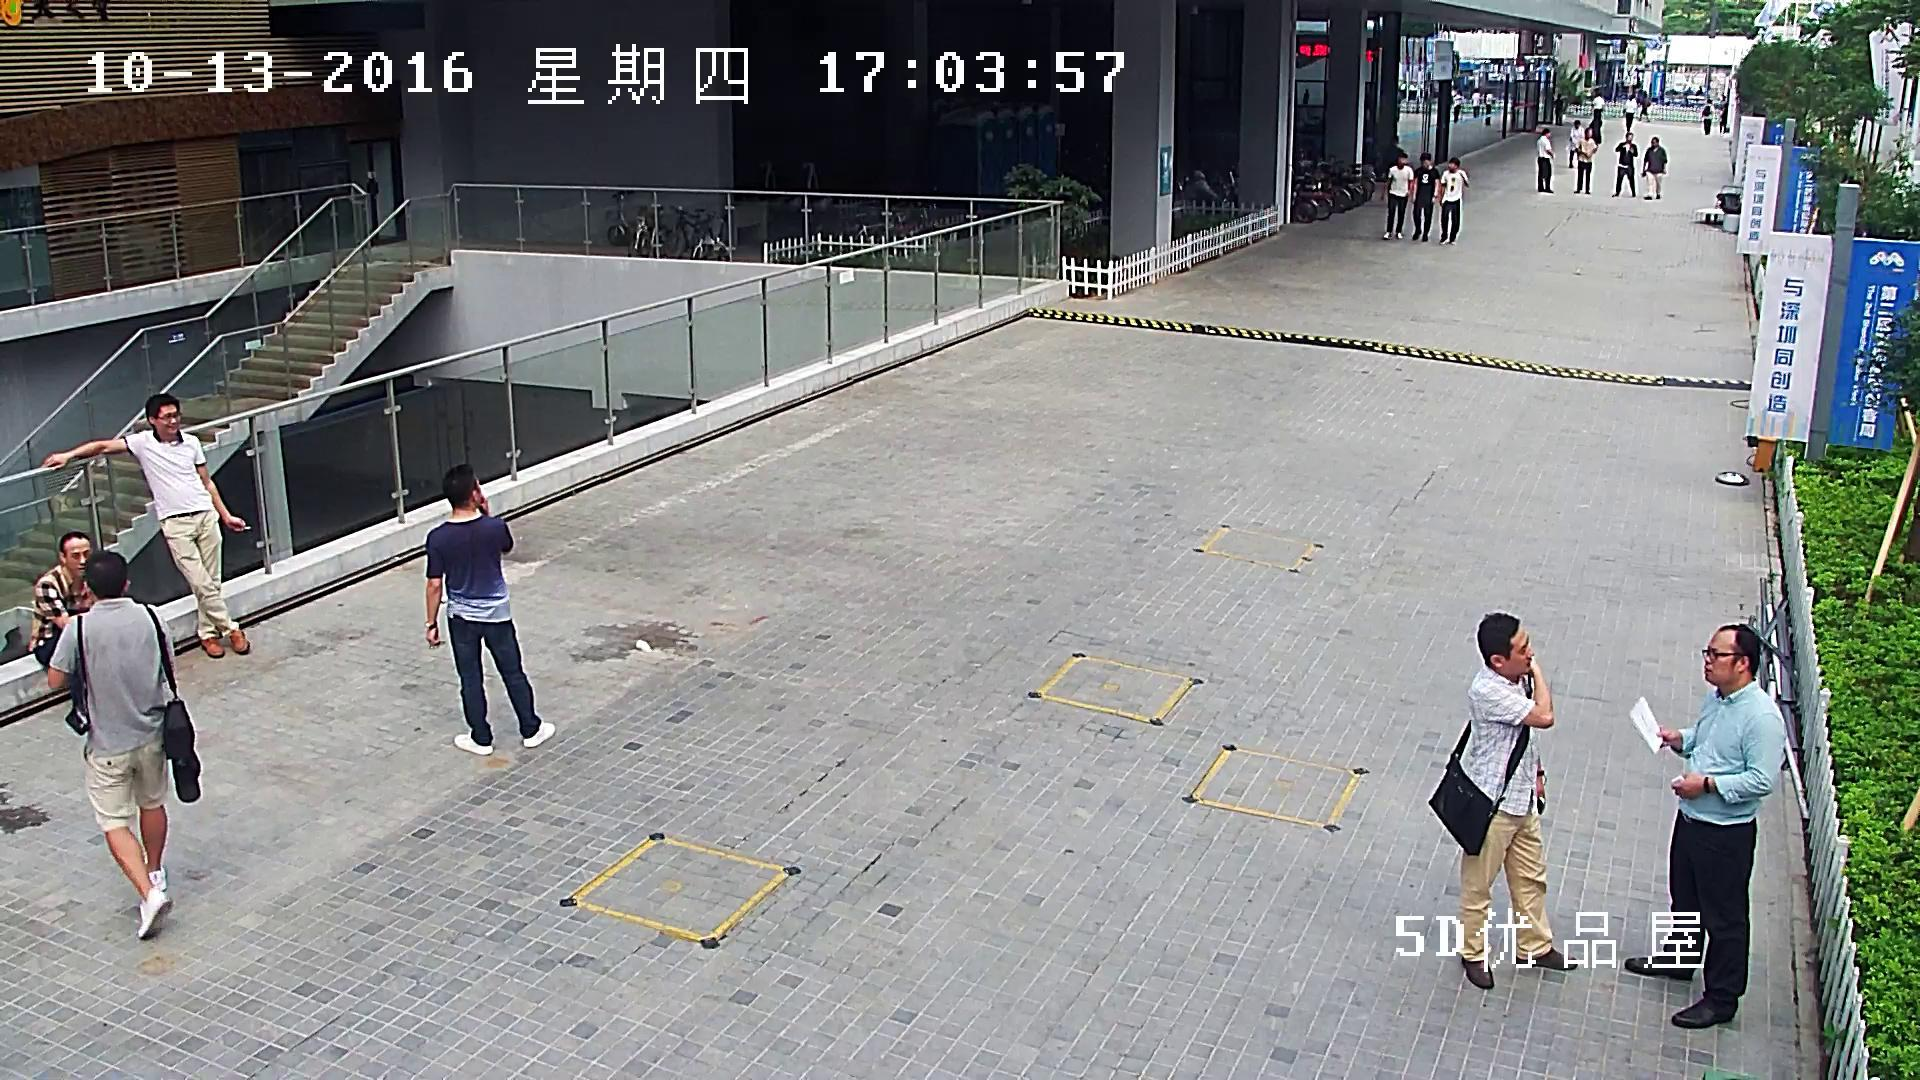person: (1625, 624, 1785, 1027), (45, 553, 200, 939), (1429, 614, 1577, 989), (42, 393, 250, 657), (424, 463, 554, 754), (29, 532, 94, 667), (1439, 157, 1469, 244), (1381, 152, 1410, 239), (1412, 152, 1439, 241), (1641, 136, 1667, 199), (1611, 132, 1637, 196), (1573, 127, 1596, 193), (1536, 128, 1553, 192), (1568, 119, 1584, 167), (1589, 114, 1602, 145), (1701, 100, 1713, 134), (1626, 94, 1636, 132), (1637, 92, 1650, 122), (1483, 89, 1492, 126), (1554, 94, 1562, 125), (1453, 92, 1462, 123), (1592, 91, 1604, 114), (1472, 89, 1480, 118), (1719, 104, 1727, 133)
